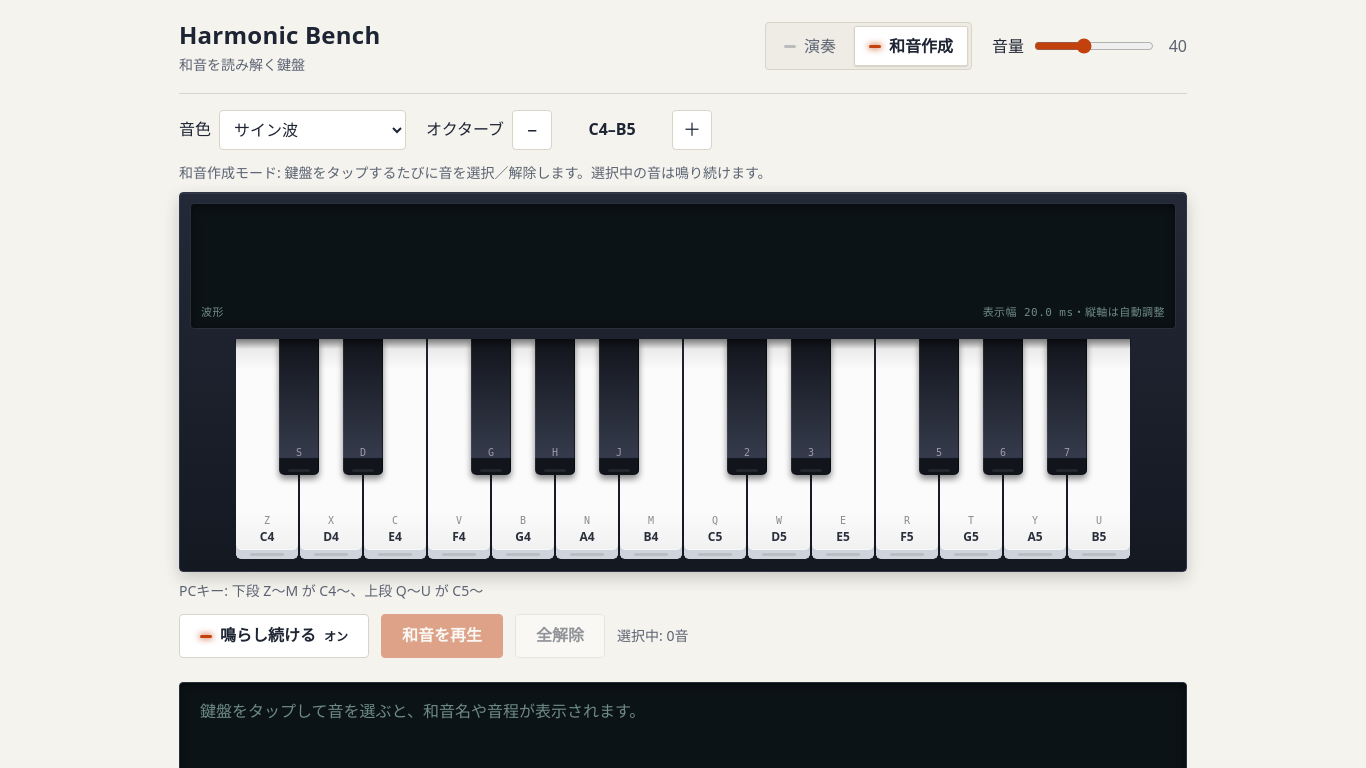
Test: App: 和音作成モード（初期モード） › 2音の音名は音程名に合わせて綴る（E4 と A♭4 は E4 → G♯4 の長3度）
Click the button "C E4" at (395, 449), box [363,339,427,559]
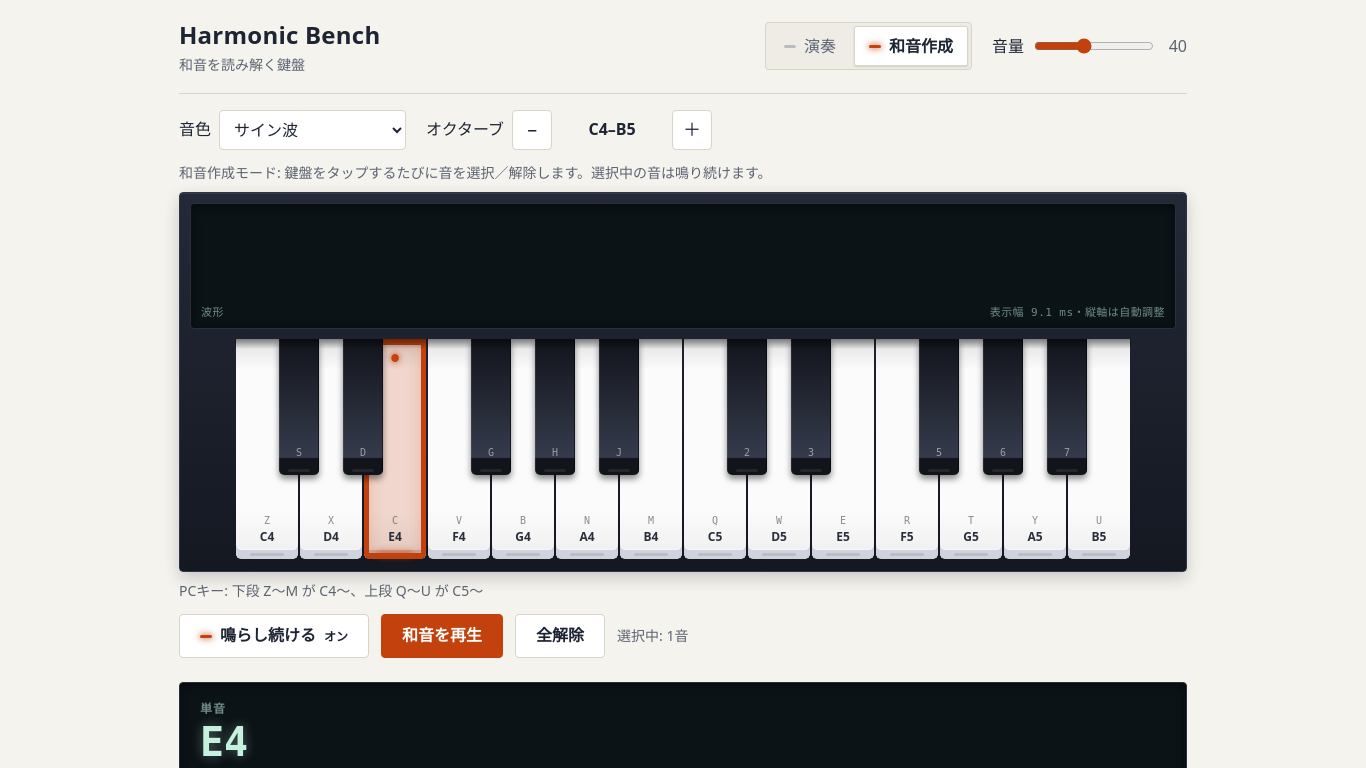
Click the button named "G♯4 / A♭4" at (555, 407), box [535,339,575,475]
(page scrolled)
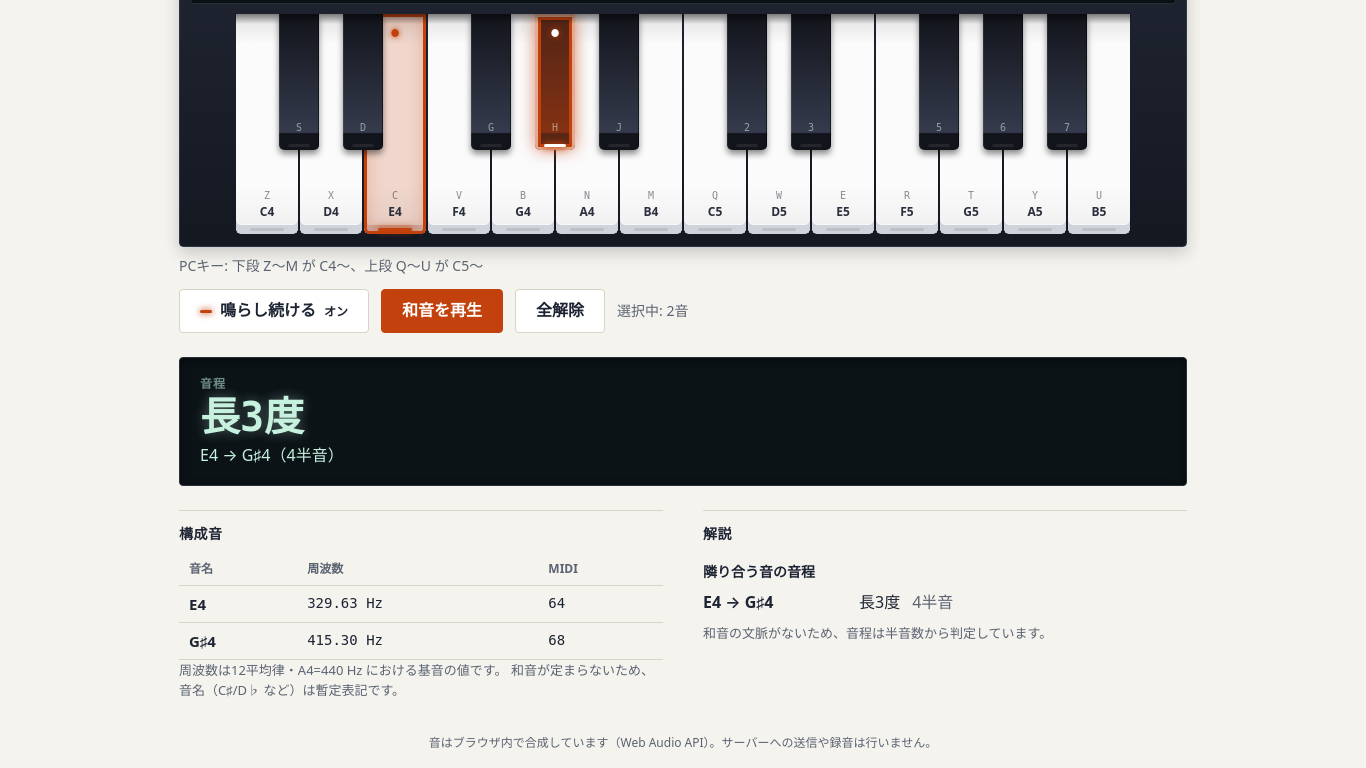
Check: the 1st text "長3度" is shown, box [200,394,304,440]
Check: the text "E4 → G♯4（4半音）" is shown, box [200,443,344,469]
